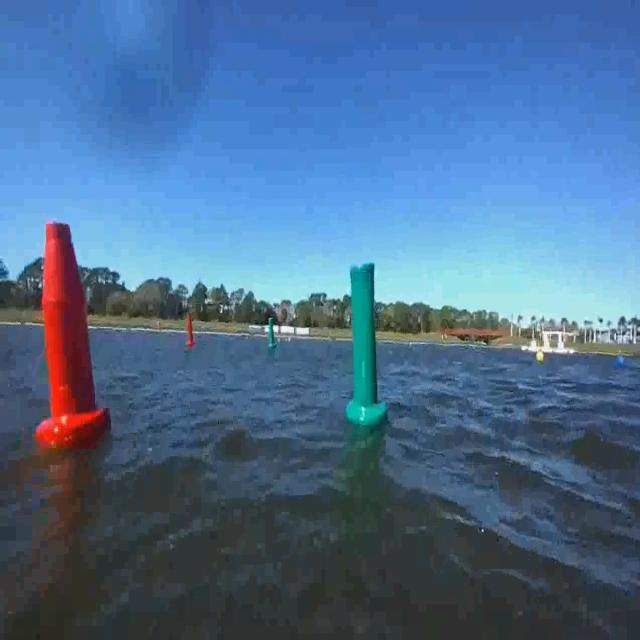blue-buoy: (615, 354, 628, 372)
green-column-buoy: (346, 258, 387, 426), (268, 319, 278, 351)
red-column-buoy: (39, 222, 113, 450), (185, 316, 195, 348)
yellow-buoy: (536, 350, 544, 366)
